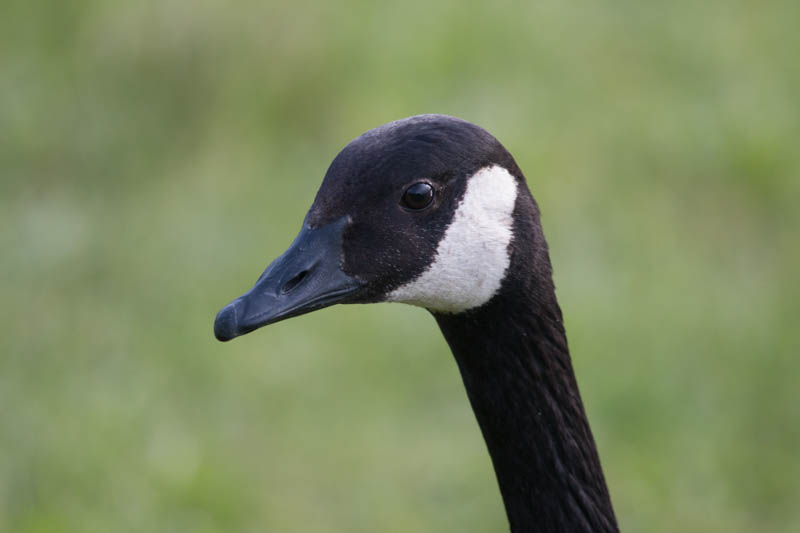goose-head: (210, 115, 547, 343)
